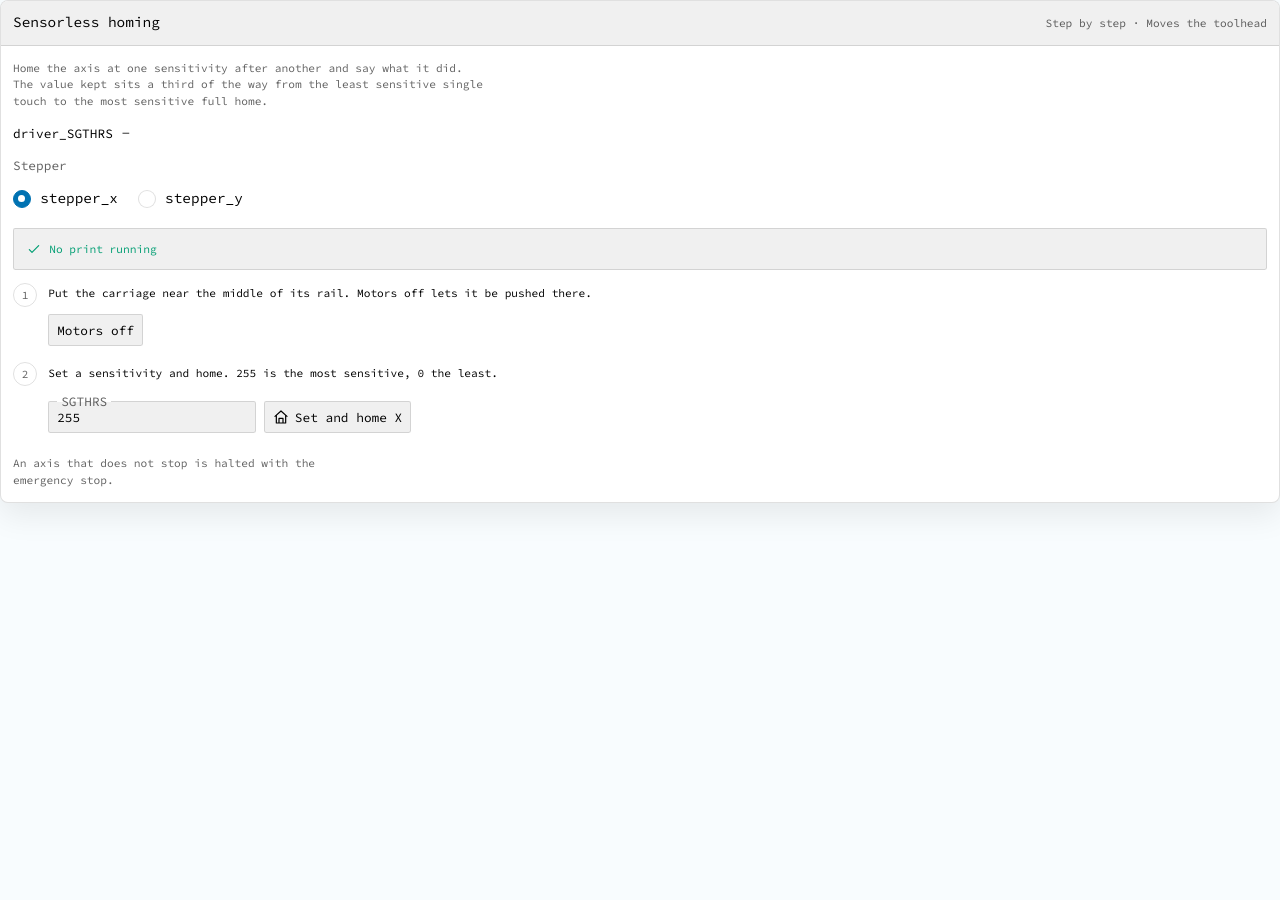
Test: SensorlessHomingPanel on an axis that homes on a switch › says what to write instead of offering a home that would only find the switch
Click the radio button labelled "stepper_y" at (147, 199), box x1=138 y1=190 x2=156 y2=208
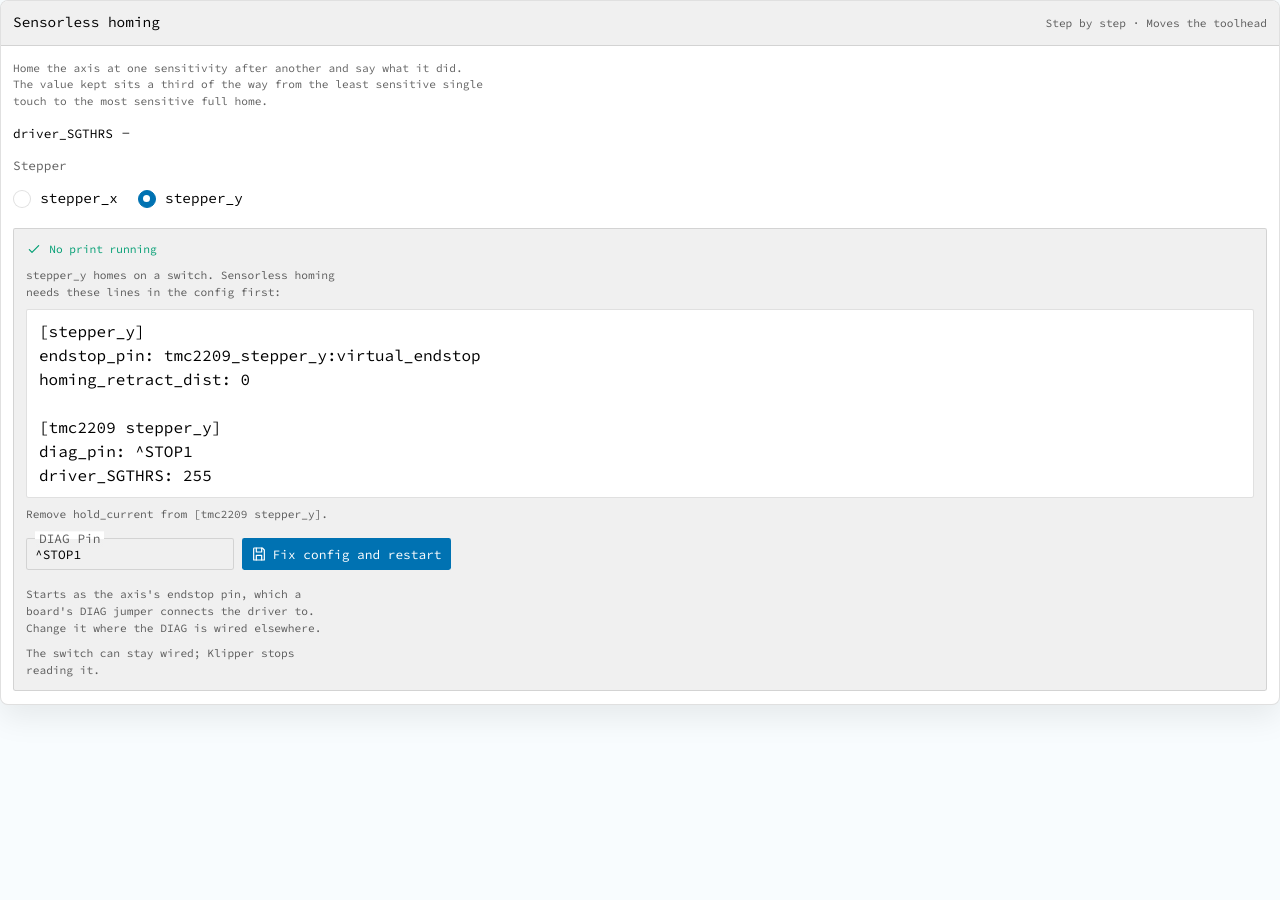
Now the text "stepper_y homes on a switch." is shown, box x1=26 y1=268 x2=335 y2=299
Now the text with class "calibration-snippet" shows "endstop_pin: tmc2209_stepper_y:virtual_endstop", box x1=39 y1=321 x2=481 y2=485
Now the text "Remove hold_current from [tmc2209 stepper_y]." is shown, box x1=26 y1=506 x2=335 y2=522
